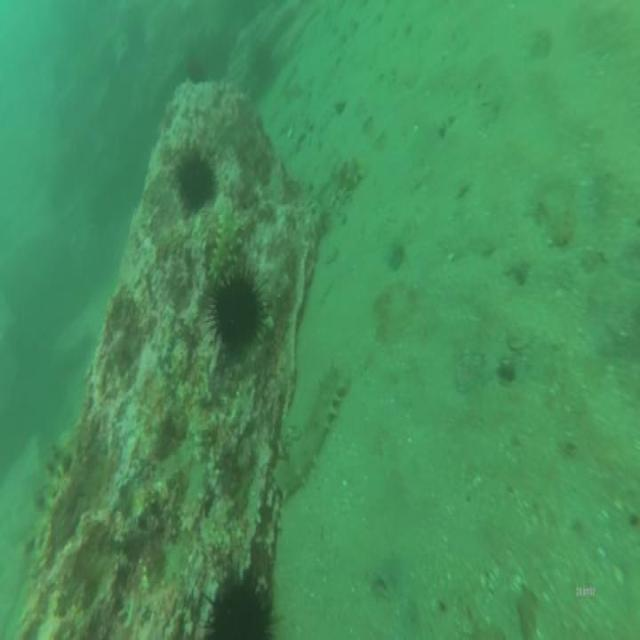echinus: (204, 261, 274, 370), (195, 564, 288, 640), (169, 140, 219, 220)
holothurian: (278, 356, 348, 507), (206, 199, 248, 277)
